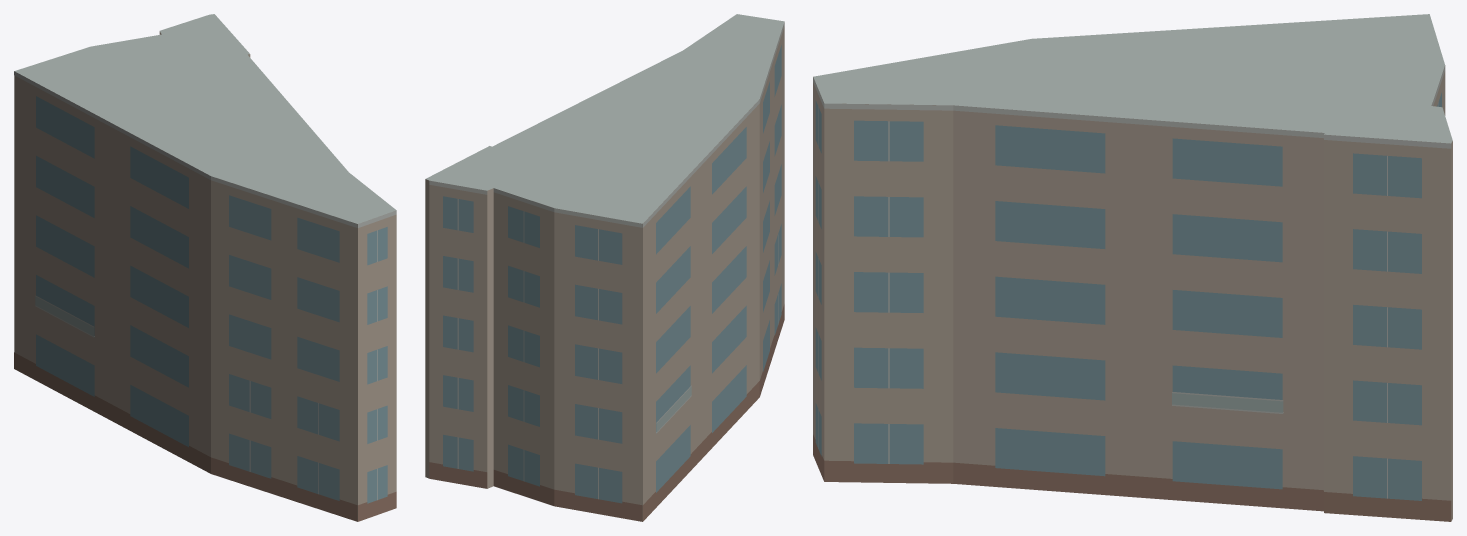
The model's file is survey-upis-32757388.glb.
3 views of the same model, side by side, from view 1: azimuth 30°, elevation 25°; view 2: azimuth 150°, elevation 25°; view 3: azimuth 270°, elevation 25° (orthographic). The views are drawn at different scales.
Parts seen in each view (by area): view 1: survey-upis-32757388.tmp; view 2: survey-upis-32757388.tmp; view 3: survey-upis-32757388.tmp.
Part boxes in pixels (x1,y1,x2,y2): survey-upis-32757388.tmp: (14, 14, 396, 521); survey-upis-32757388.tmp: (425, 14, 784, 521); survey-upis-32757388.tmp: (813, 14, 1452, 521).
Size of the model in its own units: 12.85 by 17.5 by 26.82.
